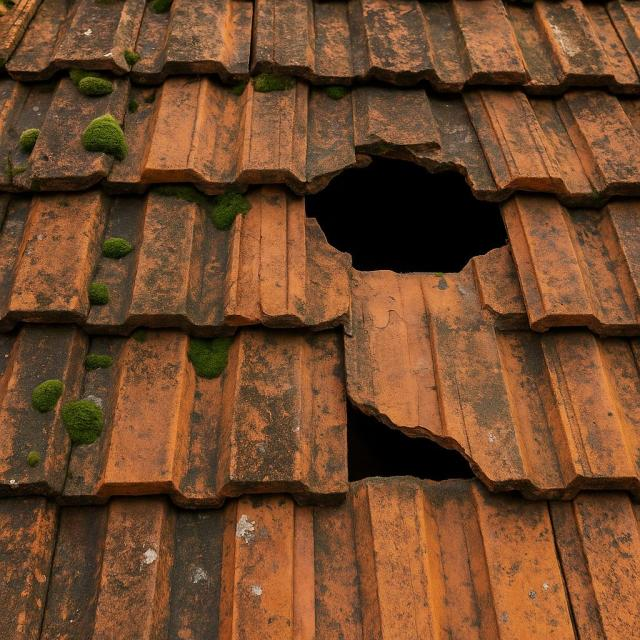trou: (295, 138, 519, 278), (338, 388, 488, 492)
